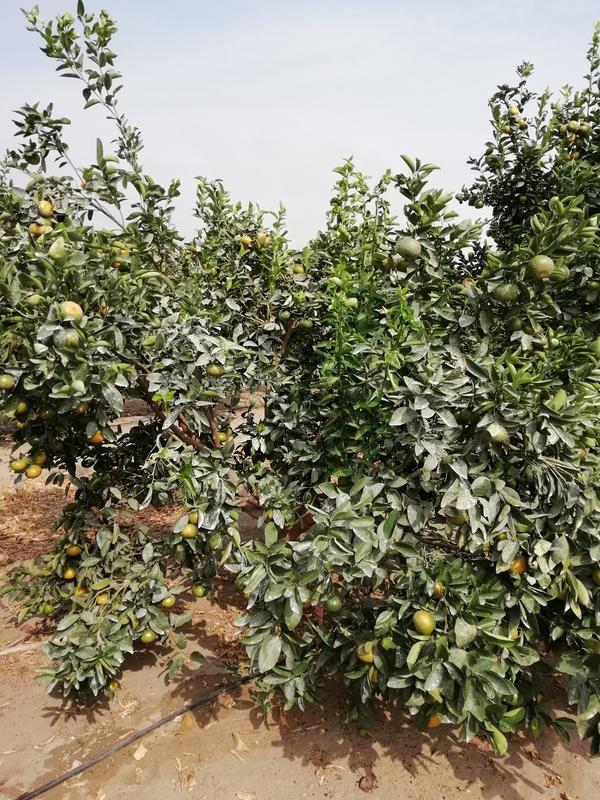mandarina naranja: (10, 455, 29, 472), (38, 200, 54, 218), (27, 466, 42, 478), (63, 568, 76, 580), (67, 545, 81, 556)
mandarina verde: (412, 609, 436, 635), (58, 301, 83, 324), (530, 255, 554, 277), (397, 238, 421, 259), (492, 282, 520, 300), (179, 522, 200, 537), (326, 595, 342, 612), (140, 629, 157, 644), (191, 584, 206, 597), (208, 364, 225, 375), (1, 375, 13, 389), (163, 595, 177, 607), (298, 318, 313, 329), (279, 309, 290, 321)
